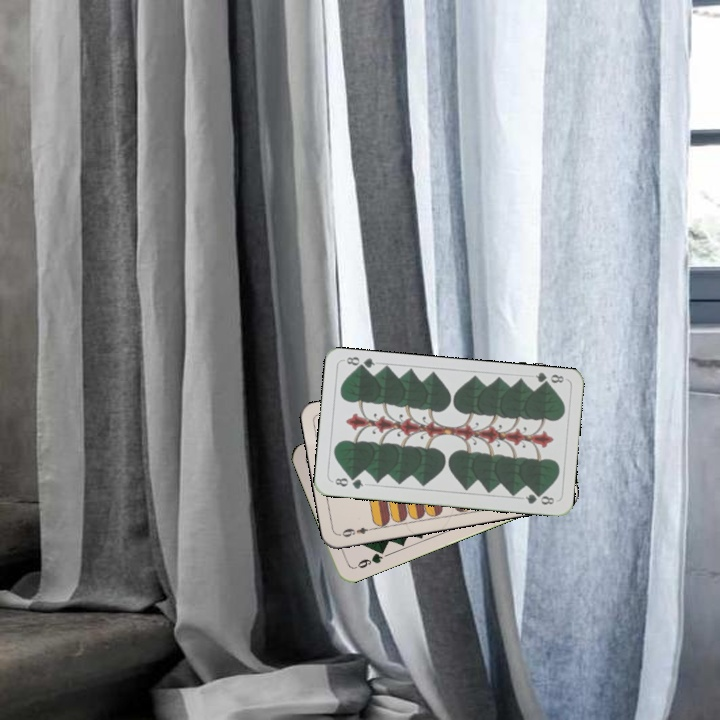E9: (336, 523, 376, 540)
G8: (531, 369, 566, 390), (329, 473, 366, 492)
G9: (350, 546, 387, 572)
